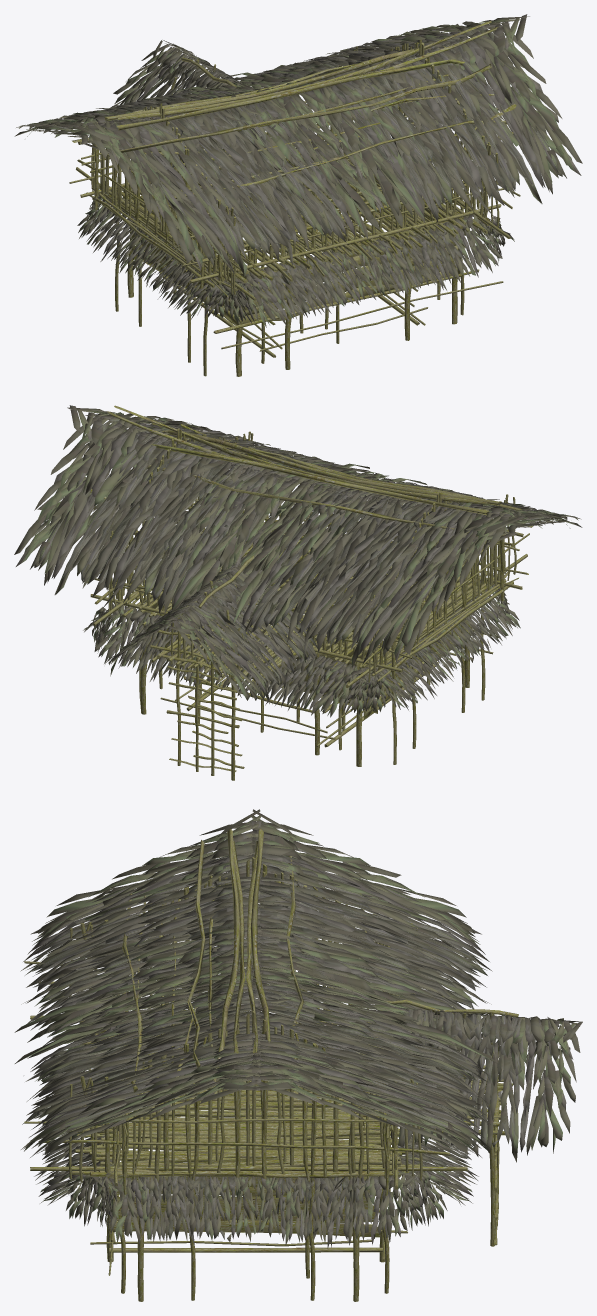
The model's file is Choza_Alta.glb.
3 renders of one model, top to bottom at view 1: azimuth 30°, elevation 25°; view 2: azimuth 150°, elevation 25°; view 3: azimuth 270°, elevation 25°, orthographic. The views are drawn at different scales.
Visible parts, largest first — view 1: prim0, prim1; view 2: prim0, prim1; view 3: prim0, prim1.
Part boxes in pixels (x1=…): prim0: x1=14, y1=14, x2=582, y2=327; prim1: x1=69, y1=21, x2=520, y2=376; prim0: x1=14, y1=405, x2=582, y2=717; prim1: x1=87, y1=405, x2=533, y2=780; prim0: x1=14, y1=809, x2=582, y2=1248; prim1: x1=24, y1=829, x2=518, y2=1301.
Bounding box in the file's own units: 23.94 × 12.14 × 21.21.
2 materials, 2 textured.
